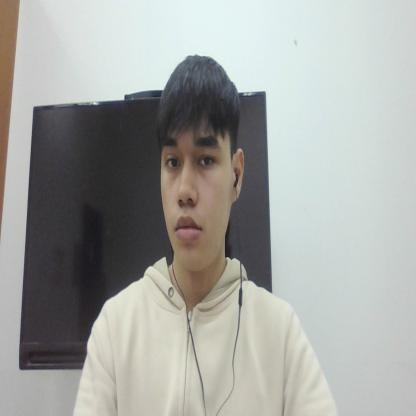Open-Eyes: (157, 125, 224, 185)
